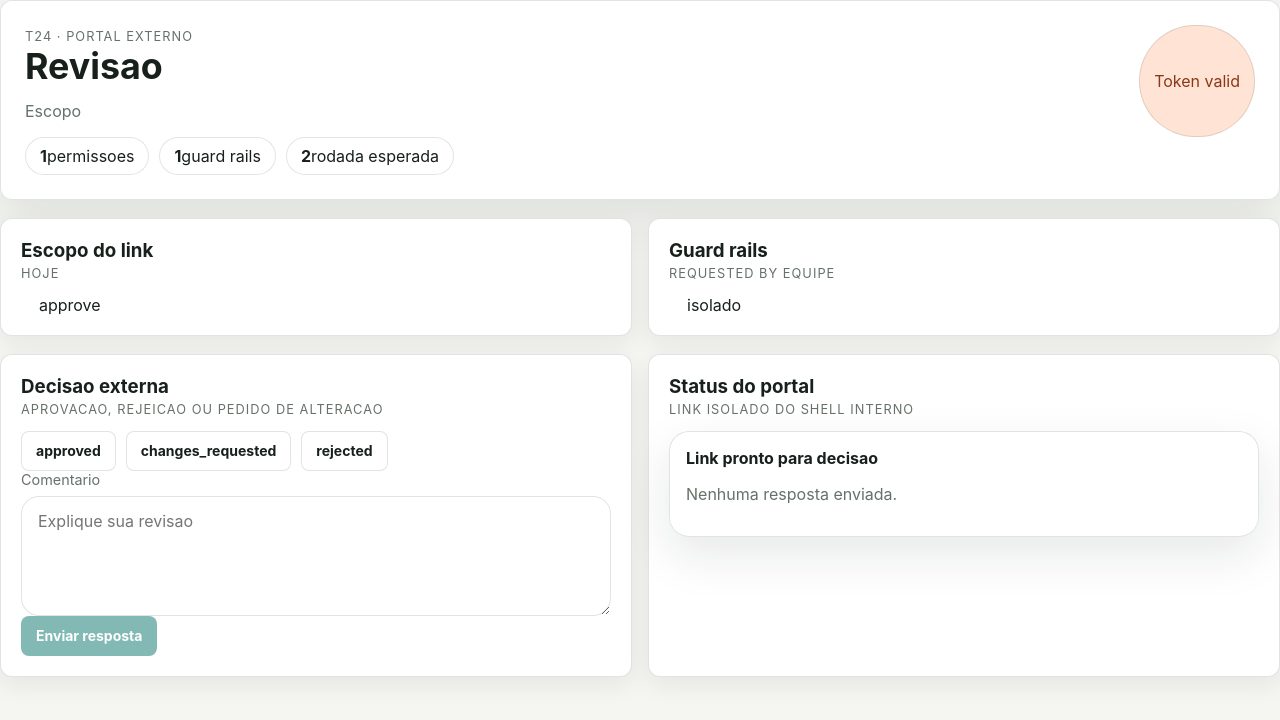
Test: PortalExperience › submits comment and decision through the public server action
Click the button "approved" at (68, 451), box [21,431,116,471]
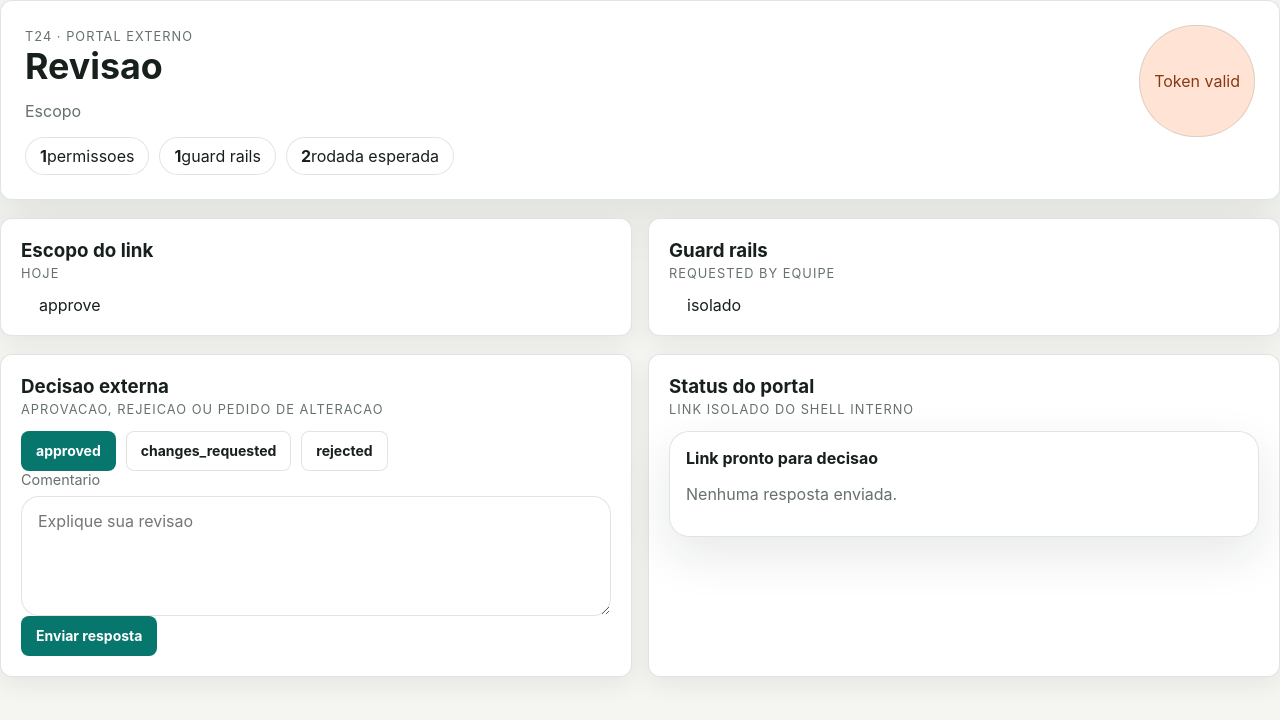
Type "Aprovado pela UI" into the text box named "Comentario externo" at (316, 556), box [21,496,611,616]
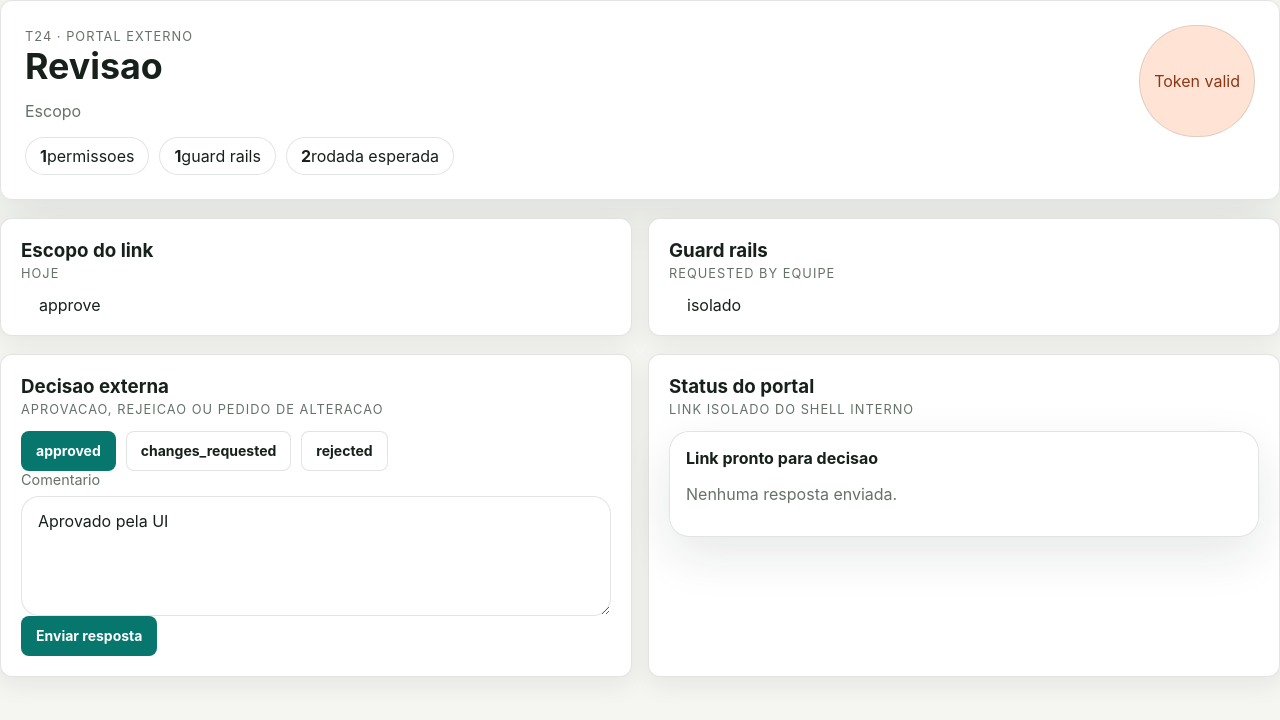
Click the button "Enviar resposta" at (89, 636), box [21,616,157,656]
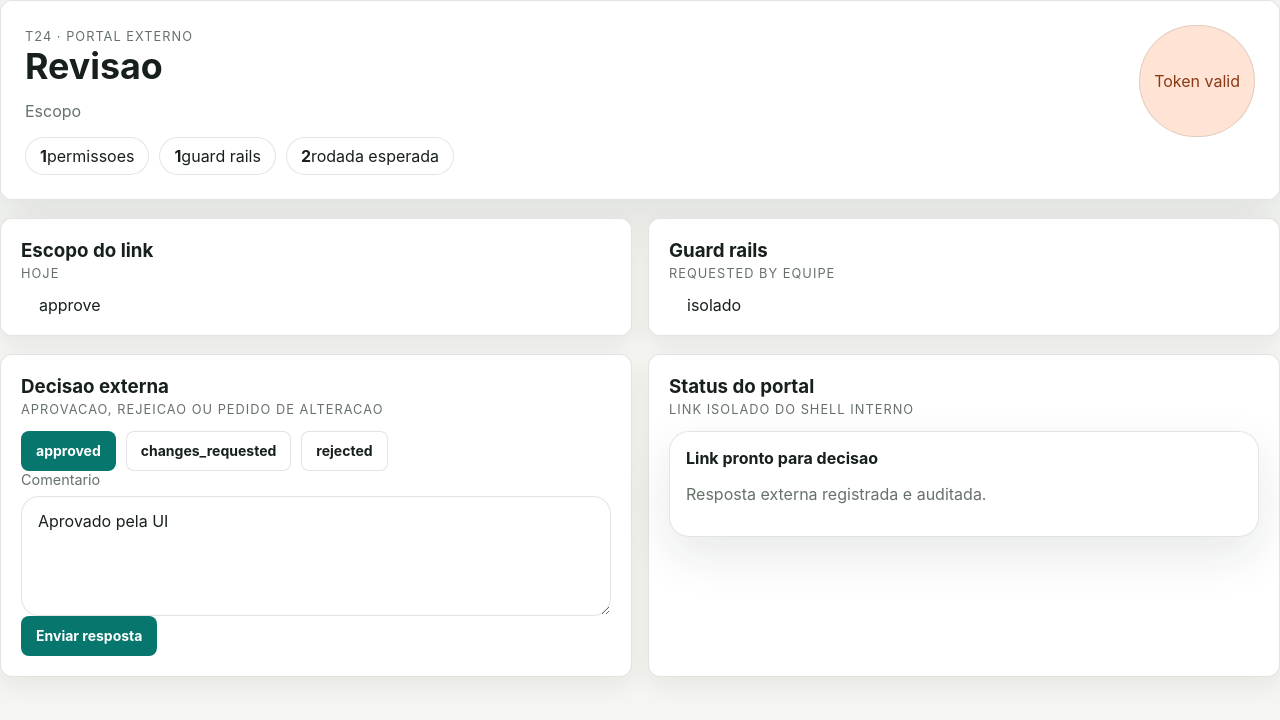
Expected: the message shows "Resposta externa registrada", [686,484,986,504]
